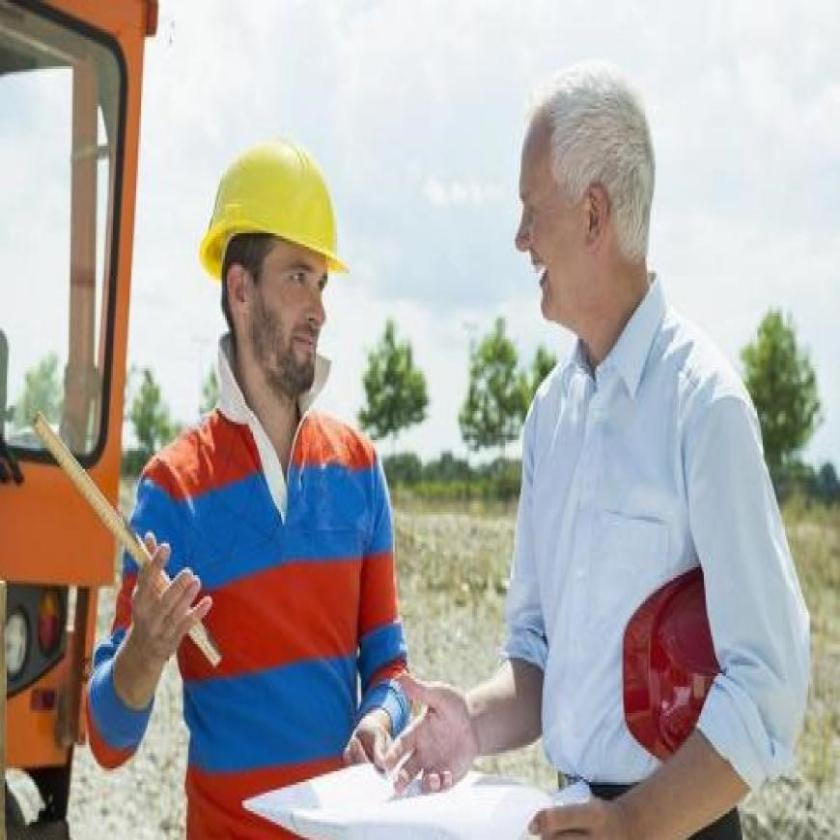Con_casco: (200, 136, 357, 408)
Sin_casco: (510, 59, 660, 340)
